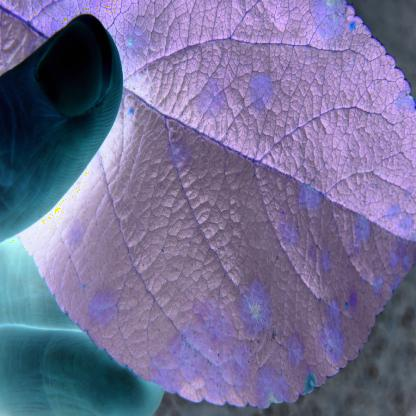apple scab leaf: (132, 2, 416, 408)
